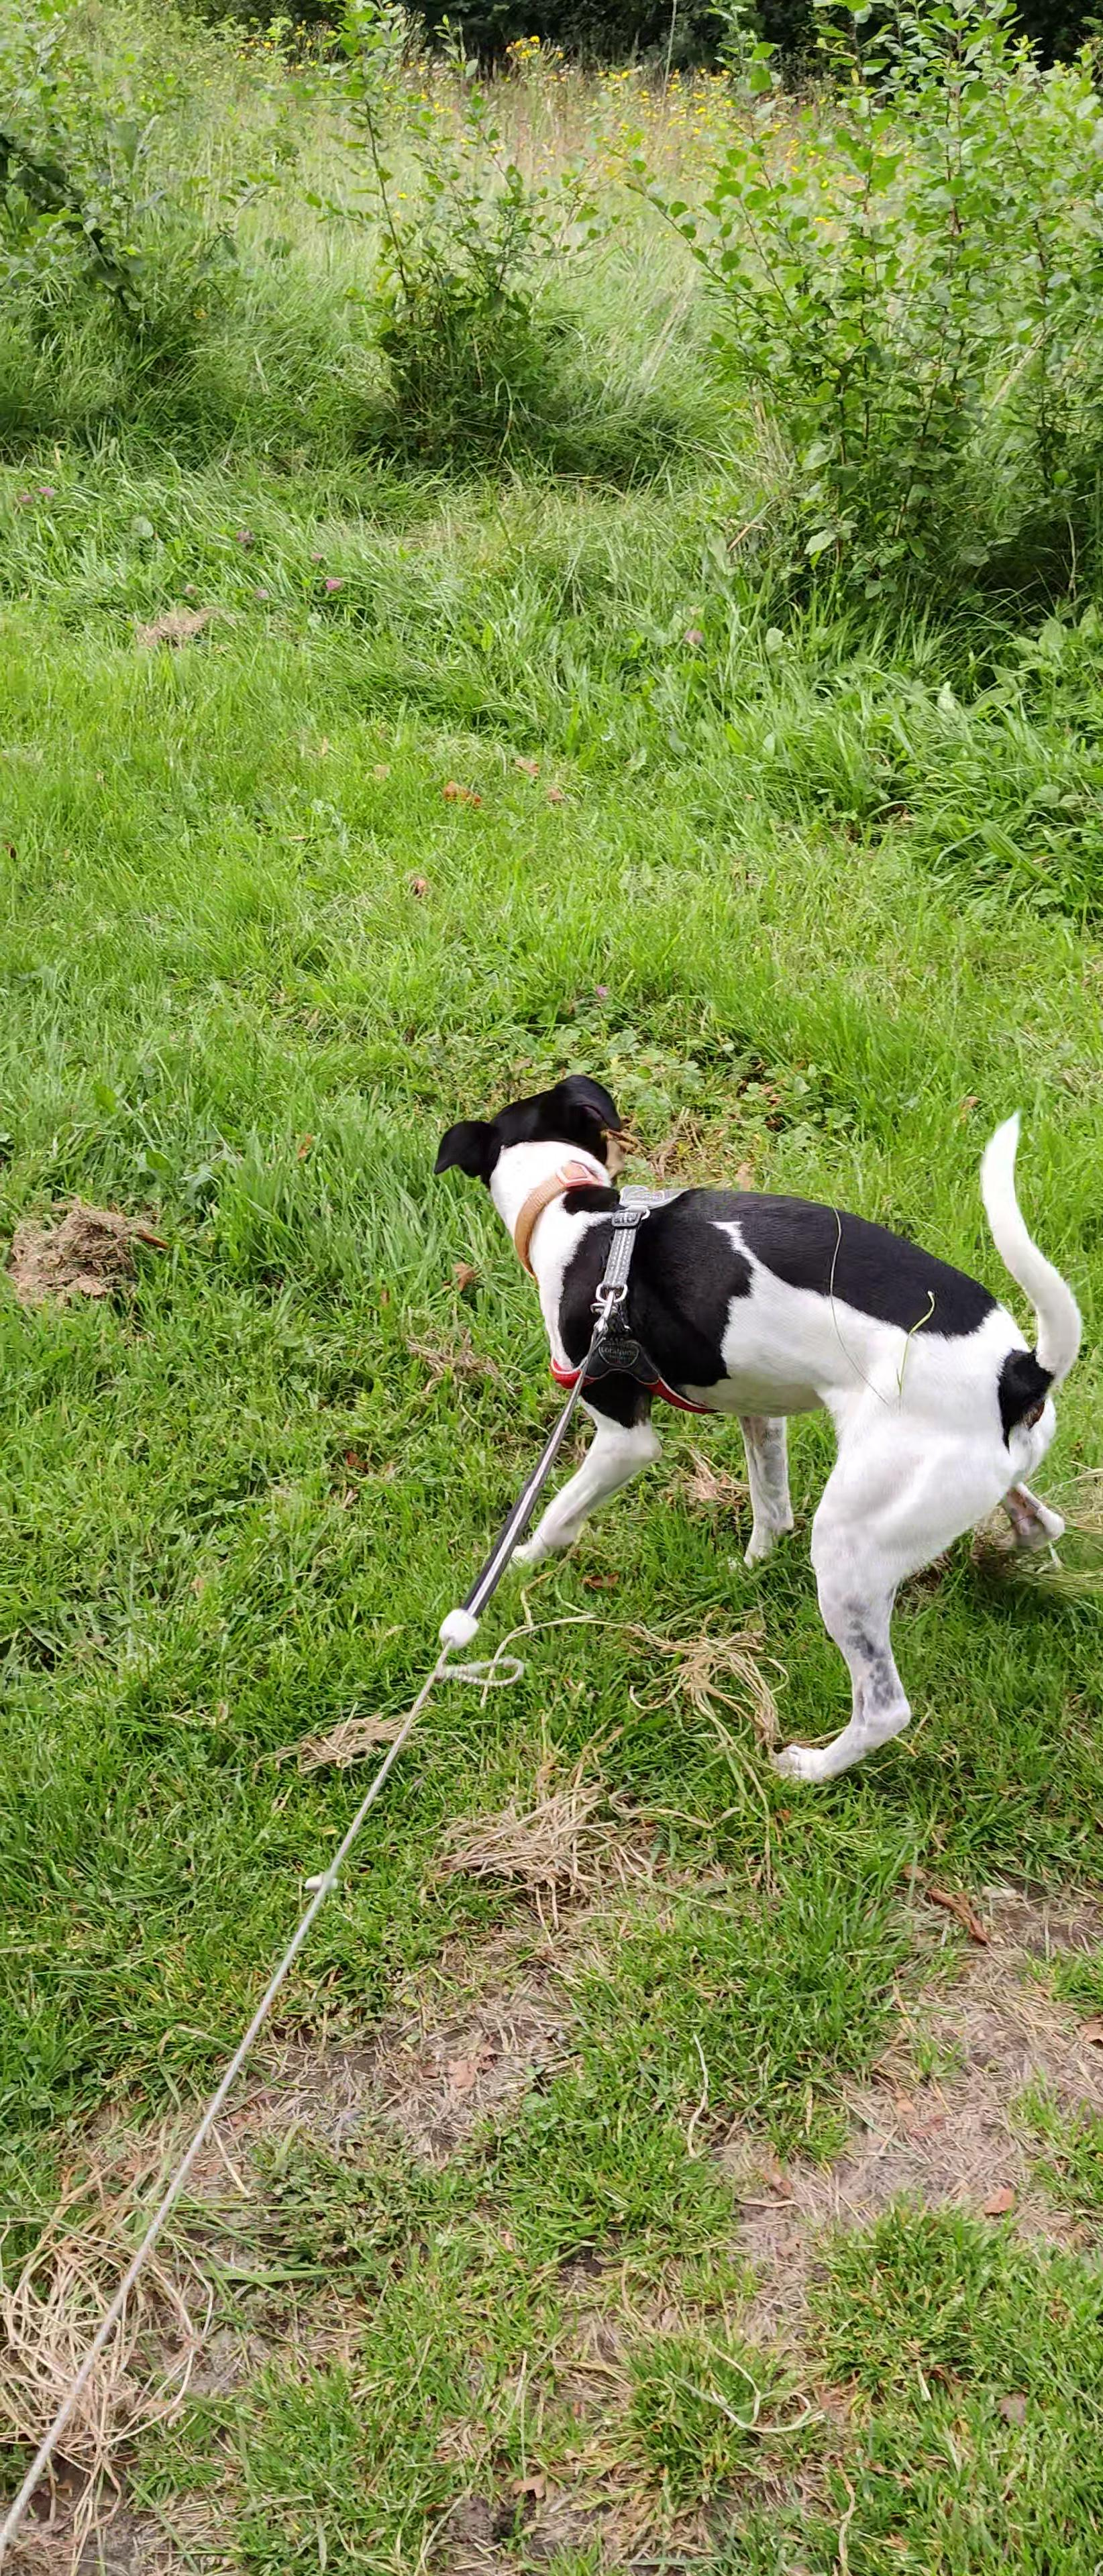Dog: (434, 1032, 1093, 1781)
